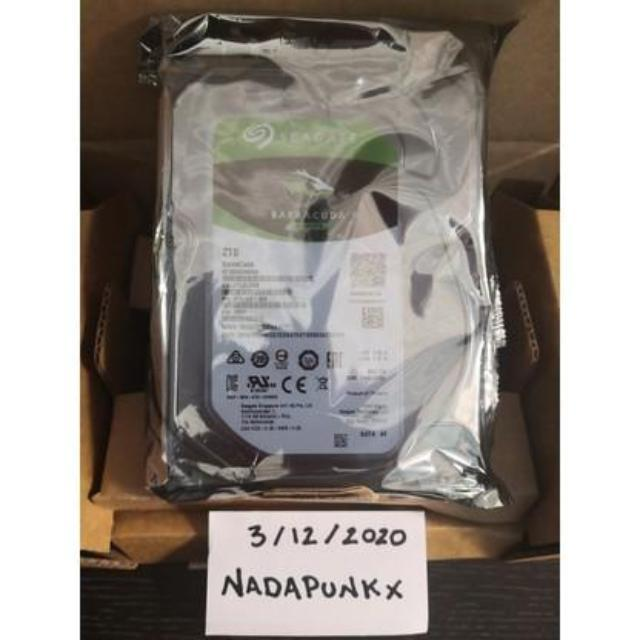DISK: (160, 67, 485, 493)
